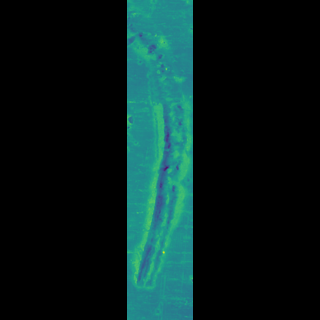Loch: (153, 0, 166, 291)
